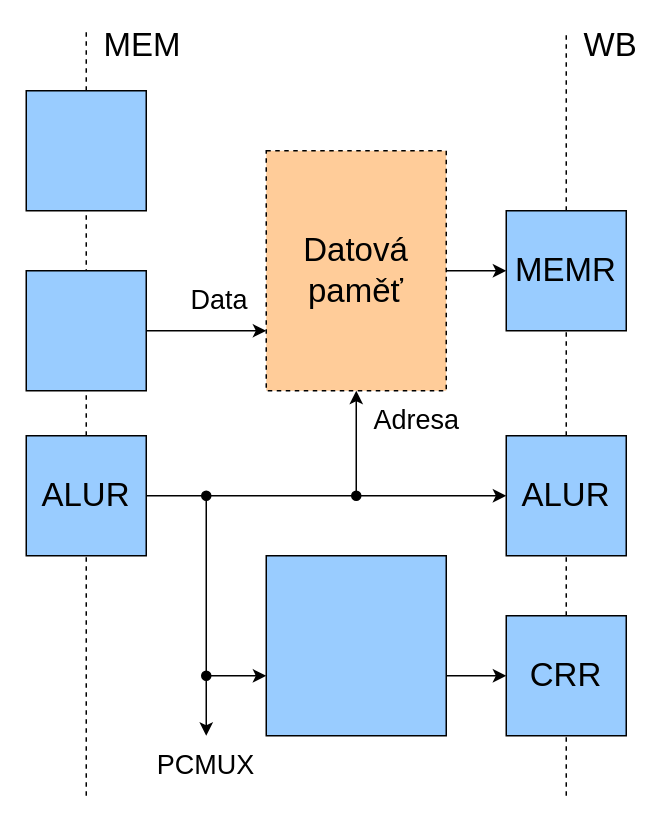
This 668x824 diagram has some shape labels left out. The centre of each missing label's shape, as x and y in pixels:
PC: the point at 85,150
REGA: the point at 85,330
Řídicí registry: the point at 355,645
